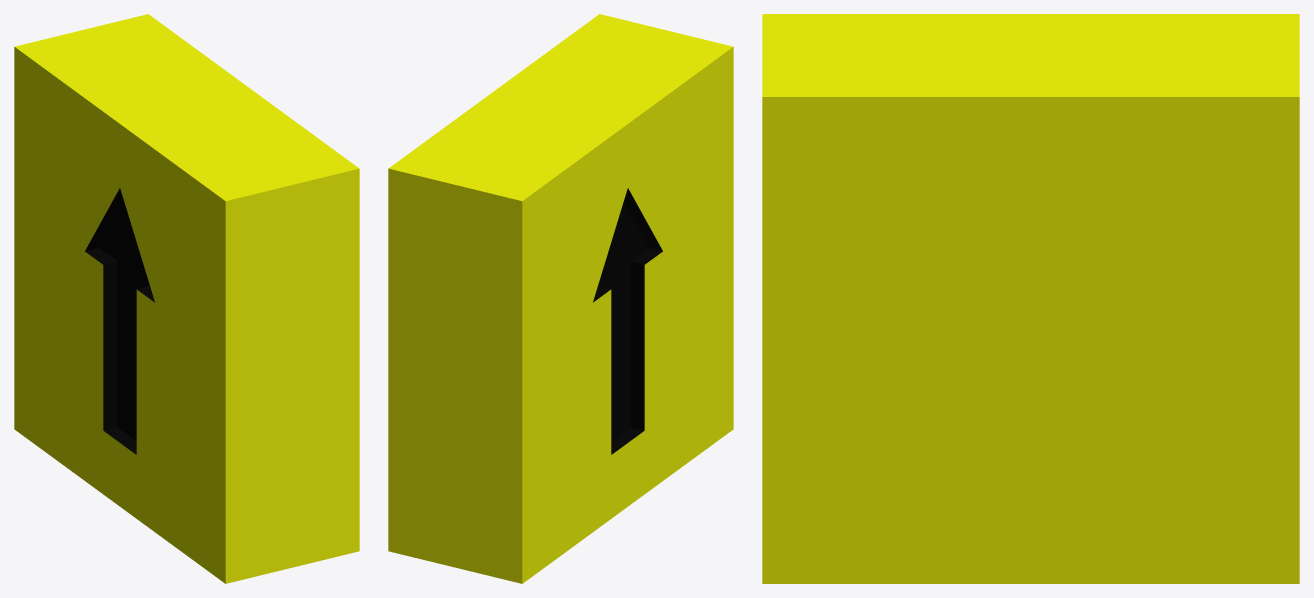
File: UpKey.fbx
3 renders of one model, left to right at view 1: azimuth 30°, elevation 25°; view 2: azimuth 150°, elevation 25°; view 3: azimuth 270°, elevation 25°, orthographic. The views are drawn at different scales.
Visible parts, largest first — view 1: Cube; view 2: Cube; view 3: Cube.
Boxes of the visible parts, x1,y1,x2,y2 form: Cube: [14, 14, 359, 583]; Cube: [388, 14, 733, 583]; Cube: [762, 14, 1299, 583].
Size of the model in its own units: 5.48 by 14.96 by 14.96.
